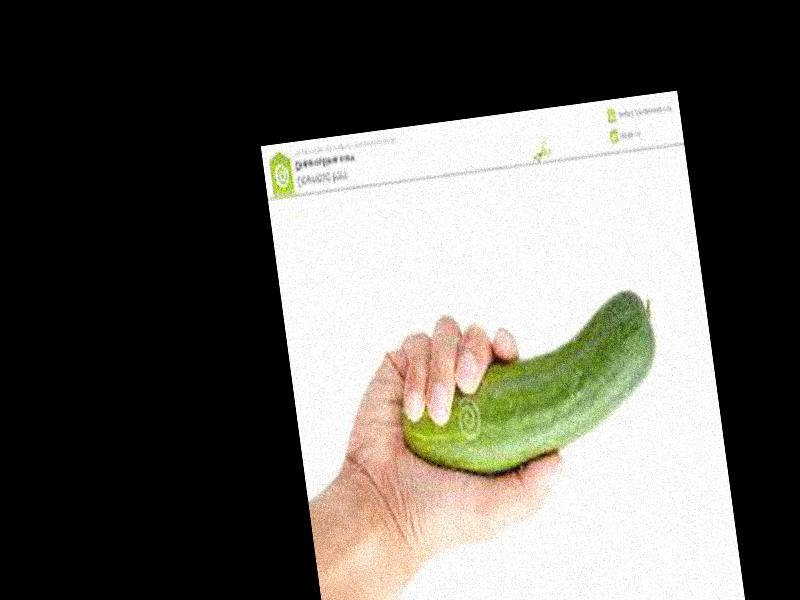Cucumber: (389, 287, 670, 480)
